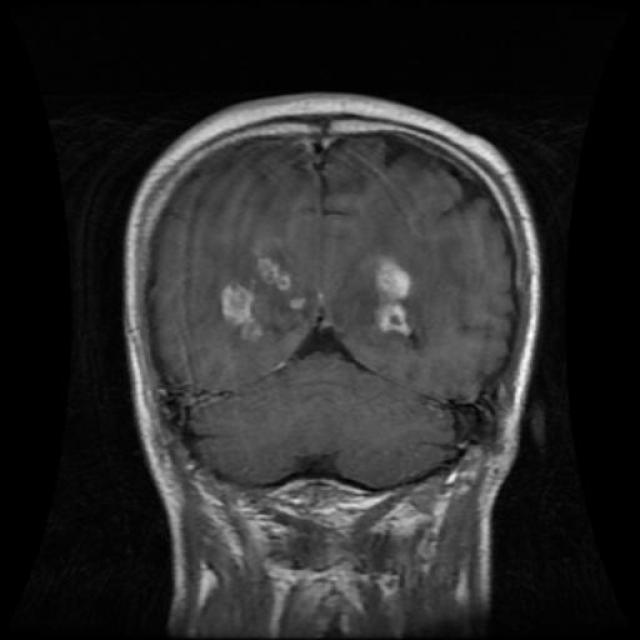glioma: (219, 242, 429, 358)
